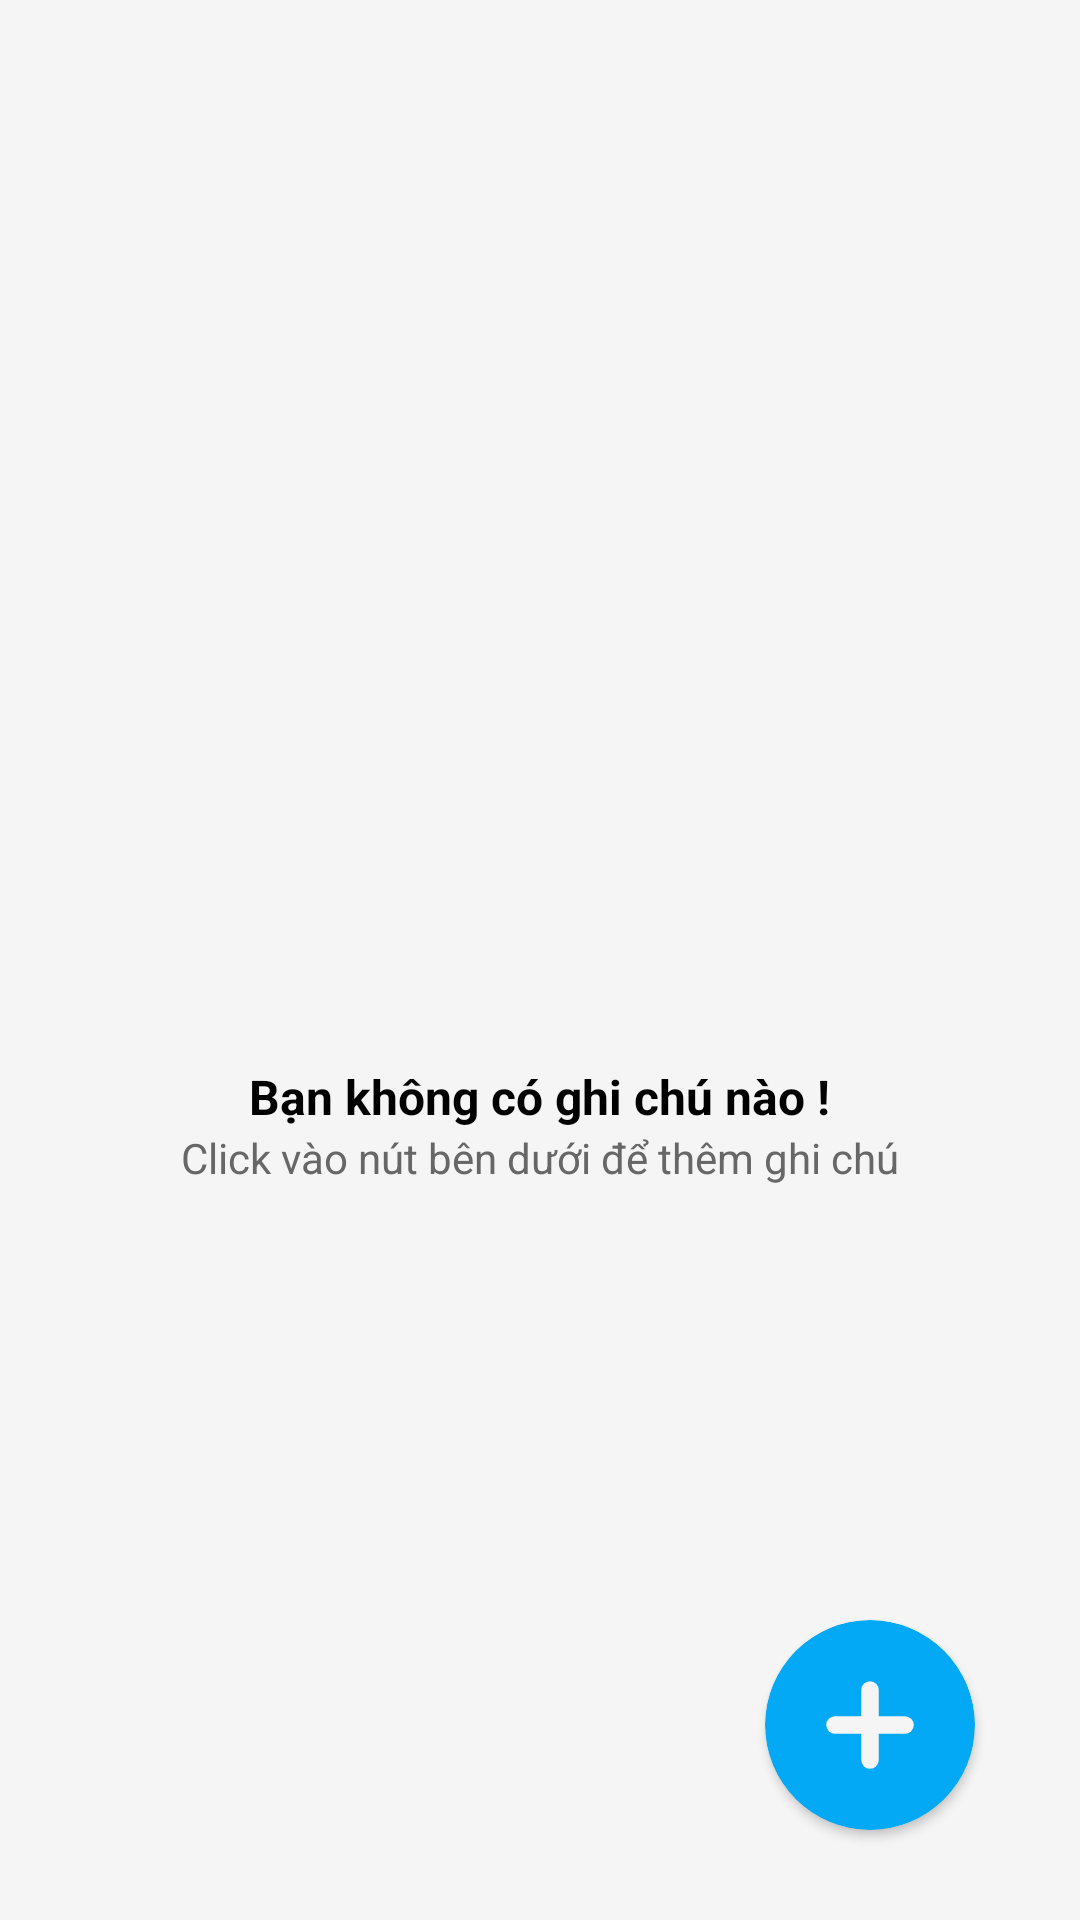

Icon click points for this 1080 × 1920 phone screenshot, format (x,y):
plus circle: (870,1725)
